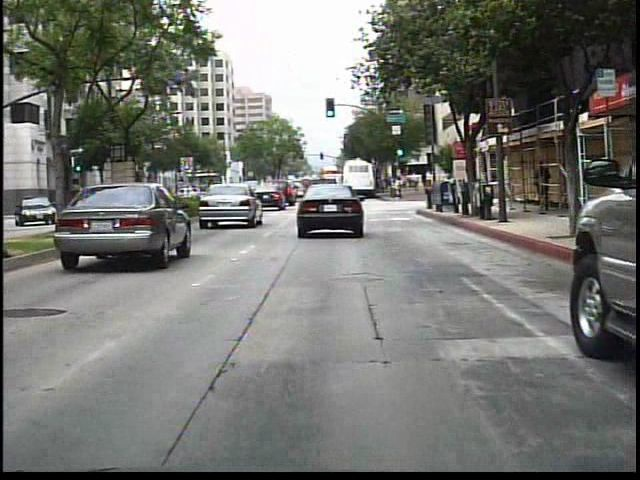person: (530, 155, 550, 218)
